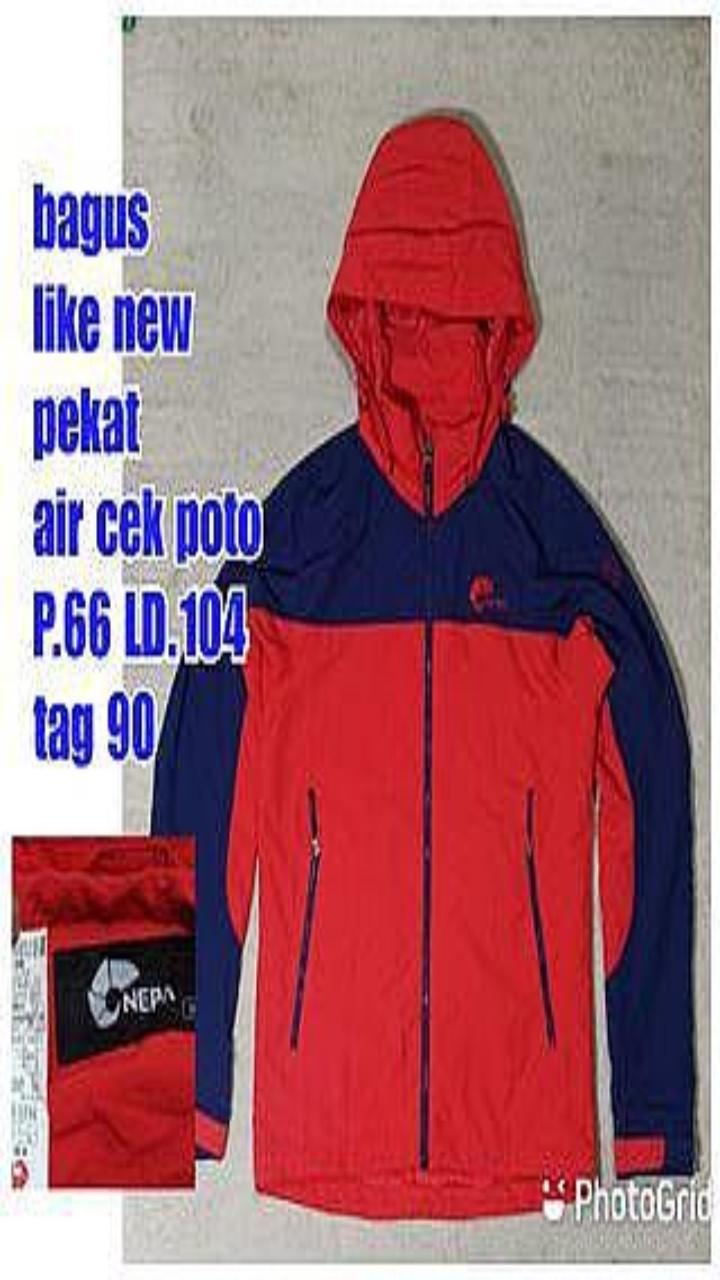Sports_Jacket: (152, 115, 693, 1216)
